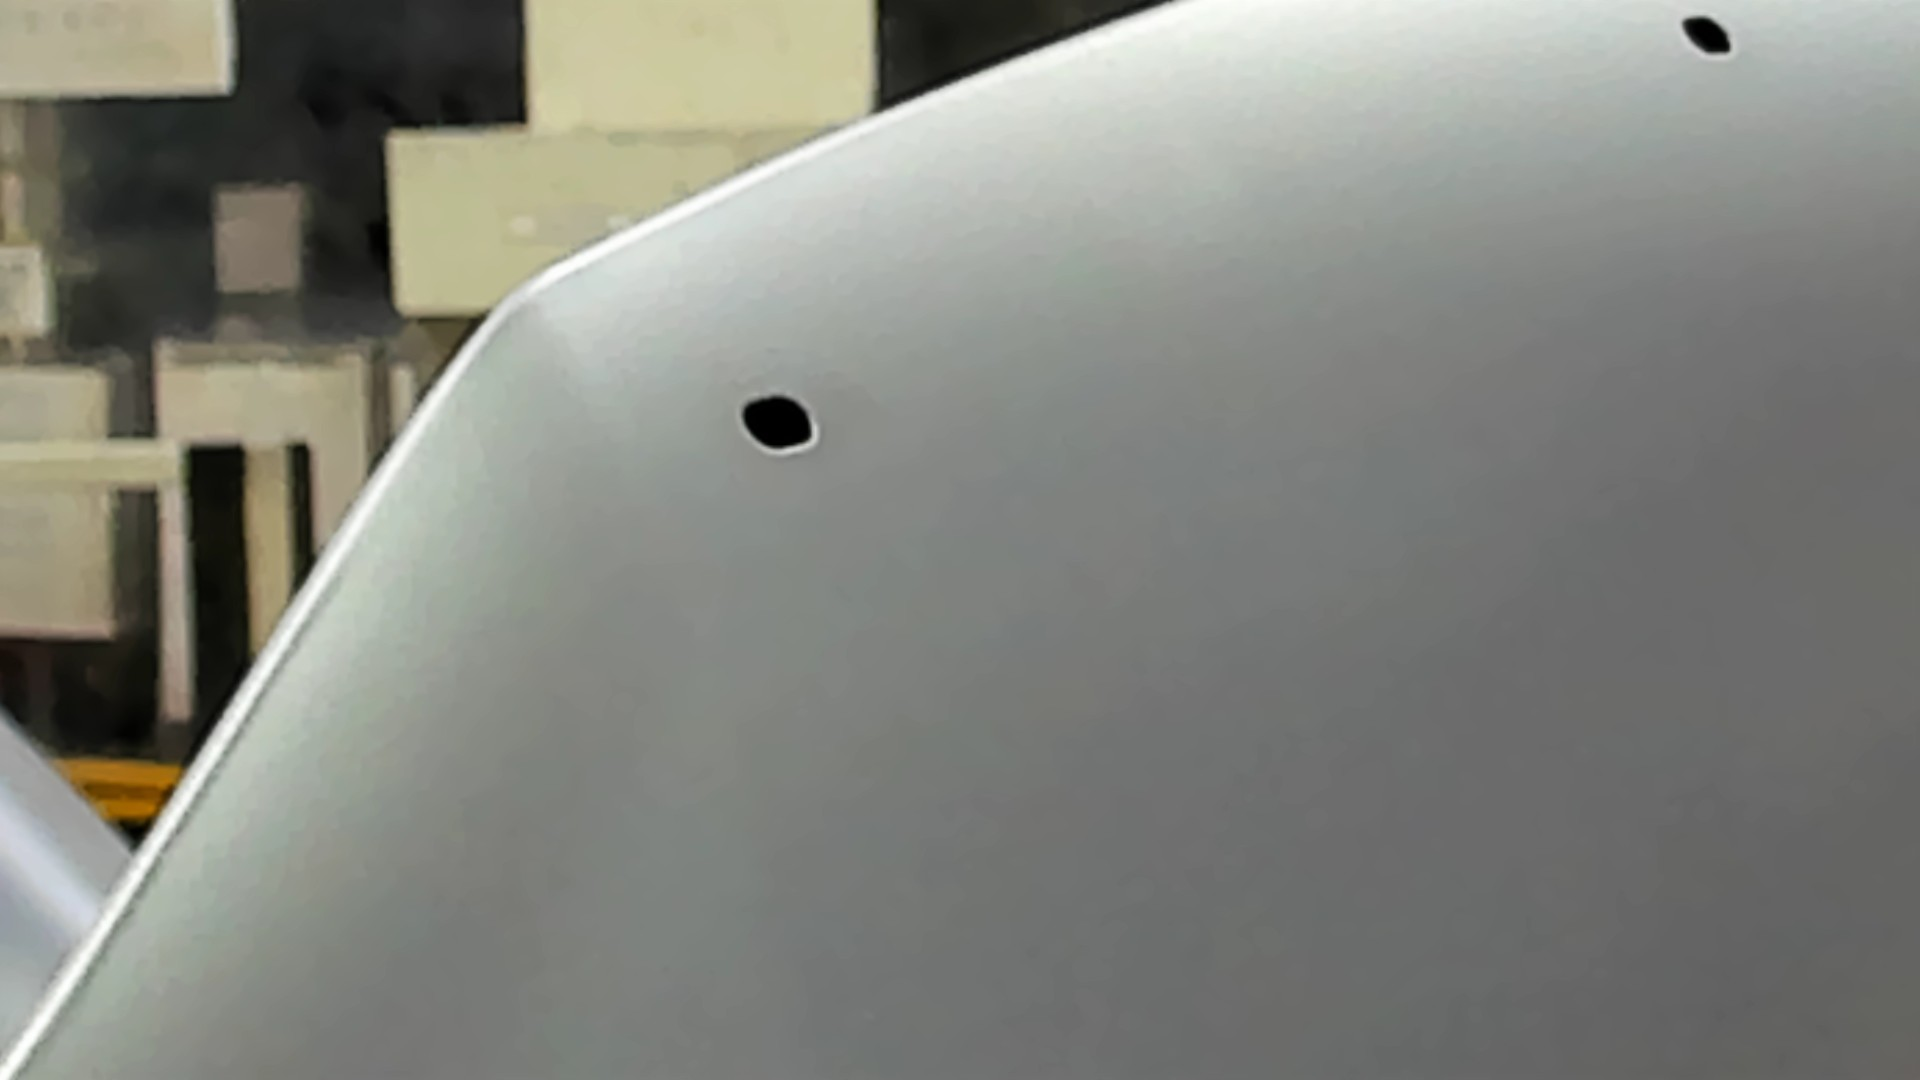amorfo: (733, 386, 823, 464), (1675, 11, 1738, 61)
